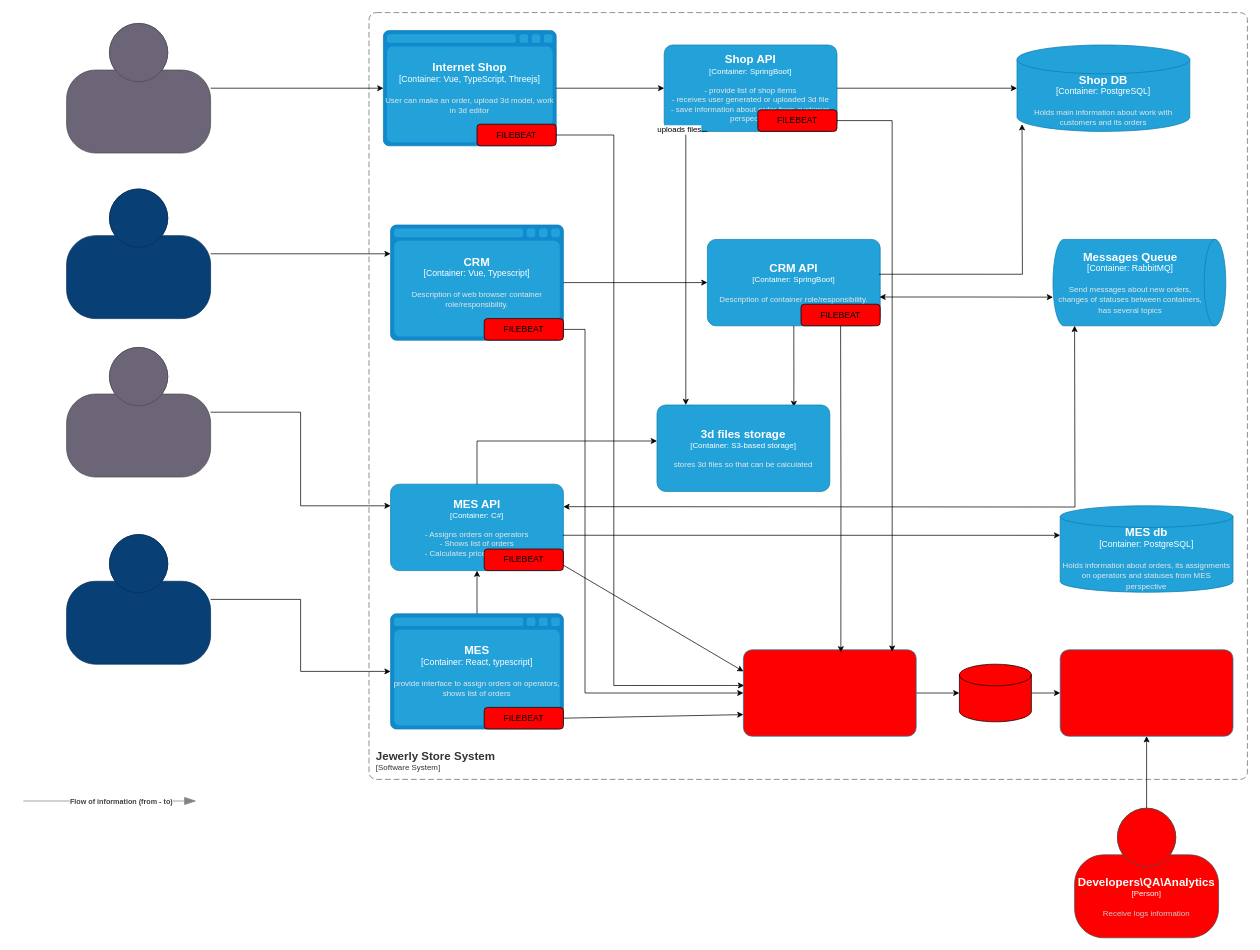
This 1260x950 diagram has some shape labels left out. The shapes that lost their labels are listed below. From the top down, each one's centre as x and y in pixels, then its label:
(x=138, y=88): Customer [Person] Description of external person.
(x=138, y=253): Seller [Person] Operates with order, confirms manufacturing for the user
(x=138, y=412): API user [Person] Description of external person.
(x=138, y=599): Operator [Person] Takes order in work, manufactures jewerly
(x=829, y=692): Logstash [Container: Logstash] Logs aggregation and normalization
(x=995, y=692): OpenSearch
(x=1146, y=692): Kibana [Container: Kibana] Logs vizualization and dashboards
